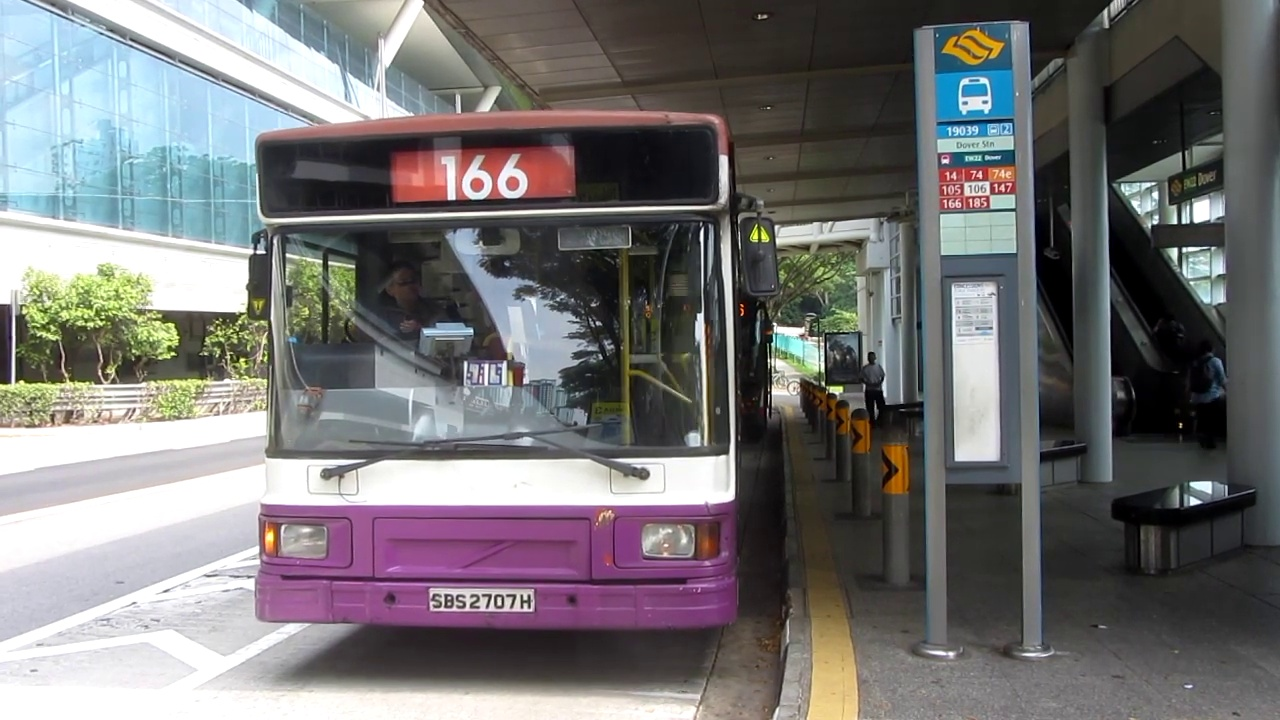bus panel: (389, 144, 579, 205)
